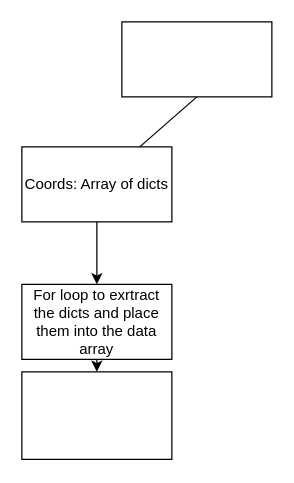
The diagram is 294 pixels wide and 483 high, and some of its shapes have lost their labels. The shapes that lost their labels are listed below. From the top down, each one's box as (x1, y1, x2, y2) in pixels, then its label:
(121, 21, 272, 97): Graph
(21, 371, 172, 459): Dicts { x: hours // array y: date // array type: }
